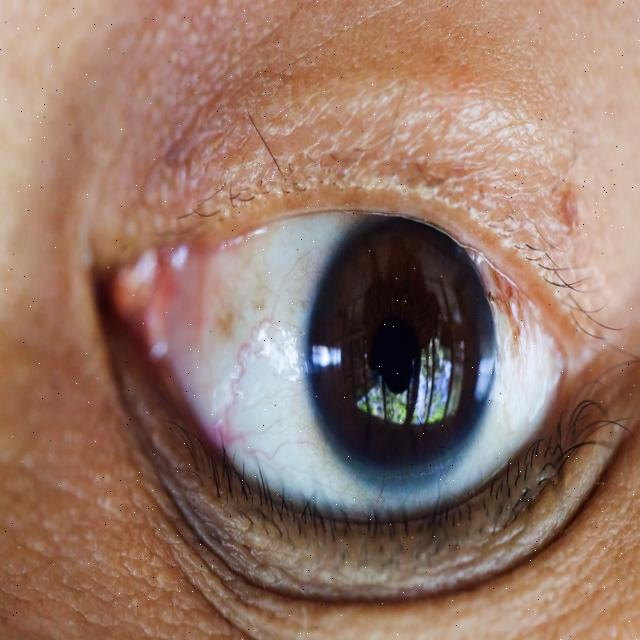Normal: (306, 210, 497, 492)
